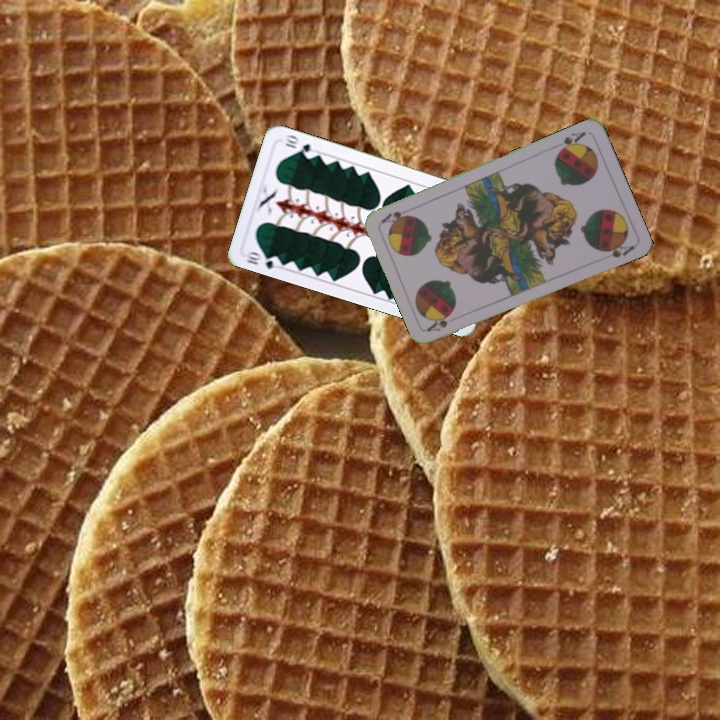G10: (242, 247, 283, 271)
SA: (554, 128, 588, 156), (423, 311, 453, 334)
